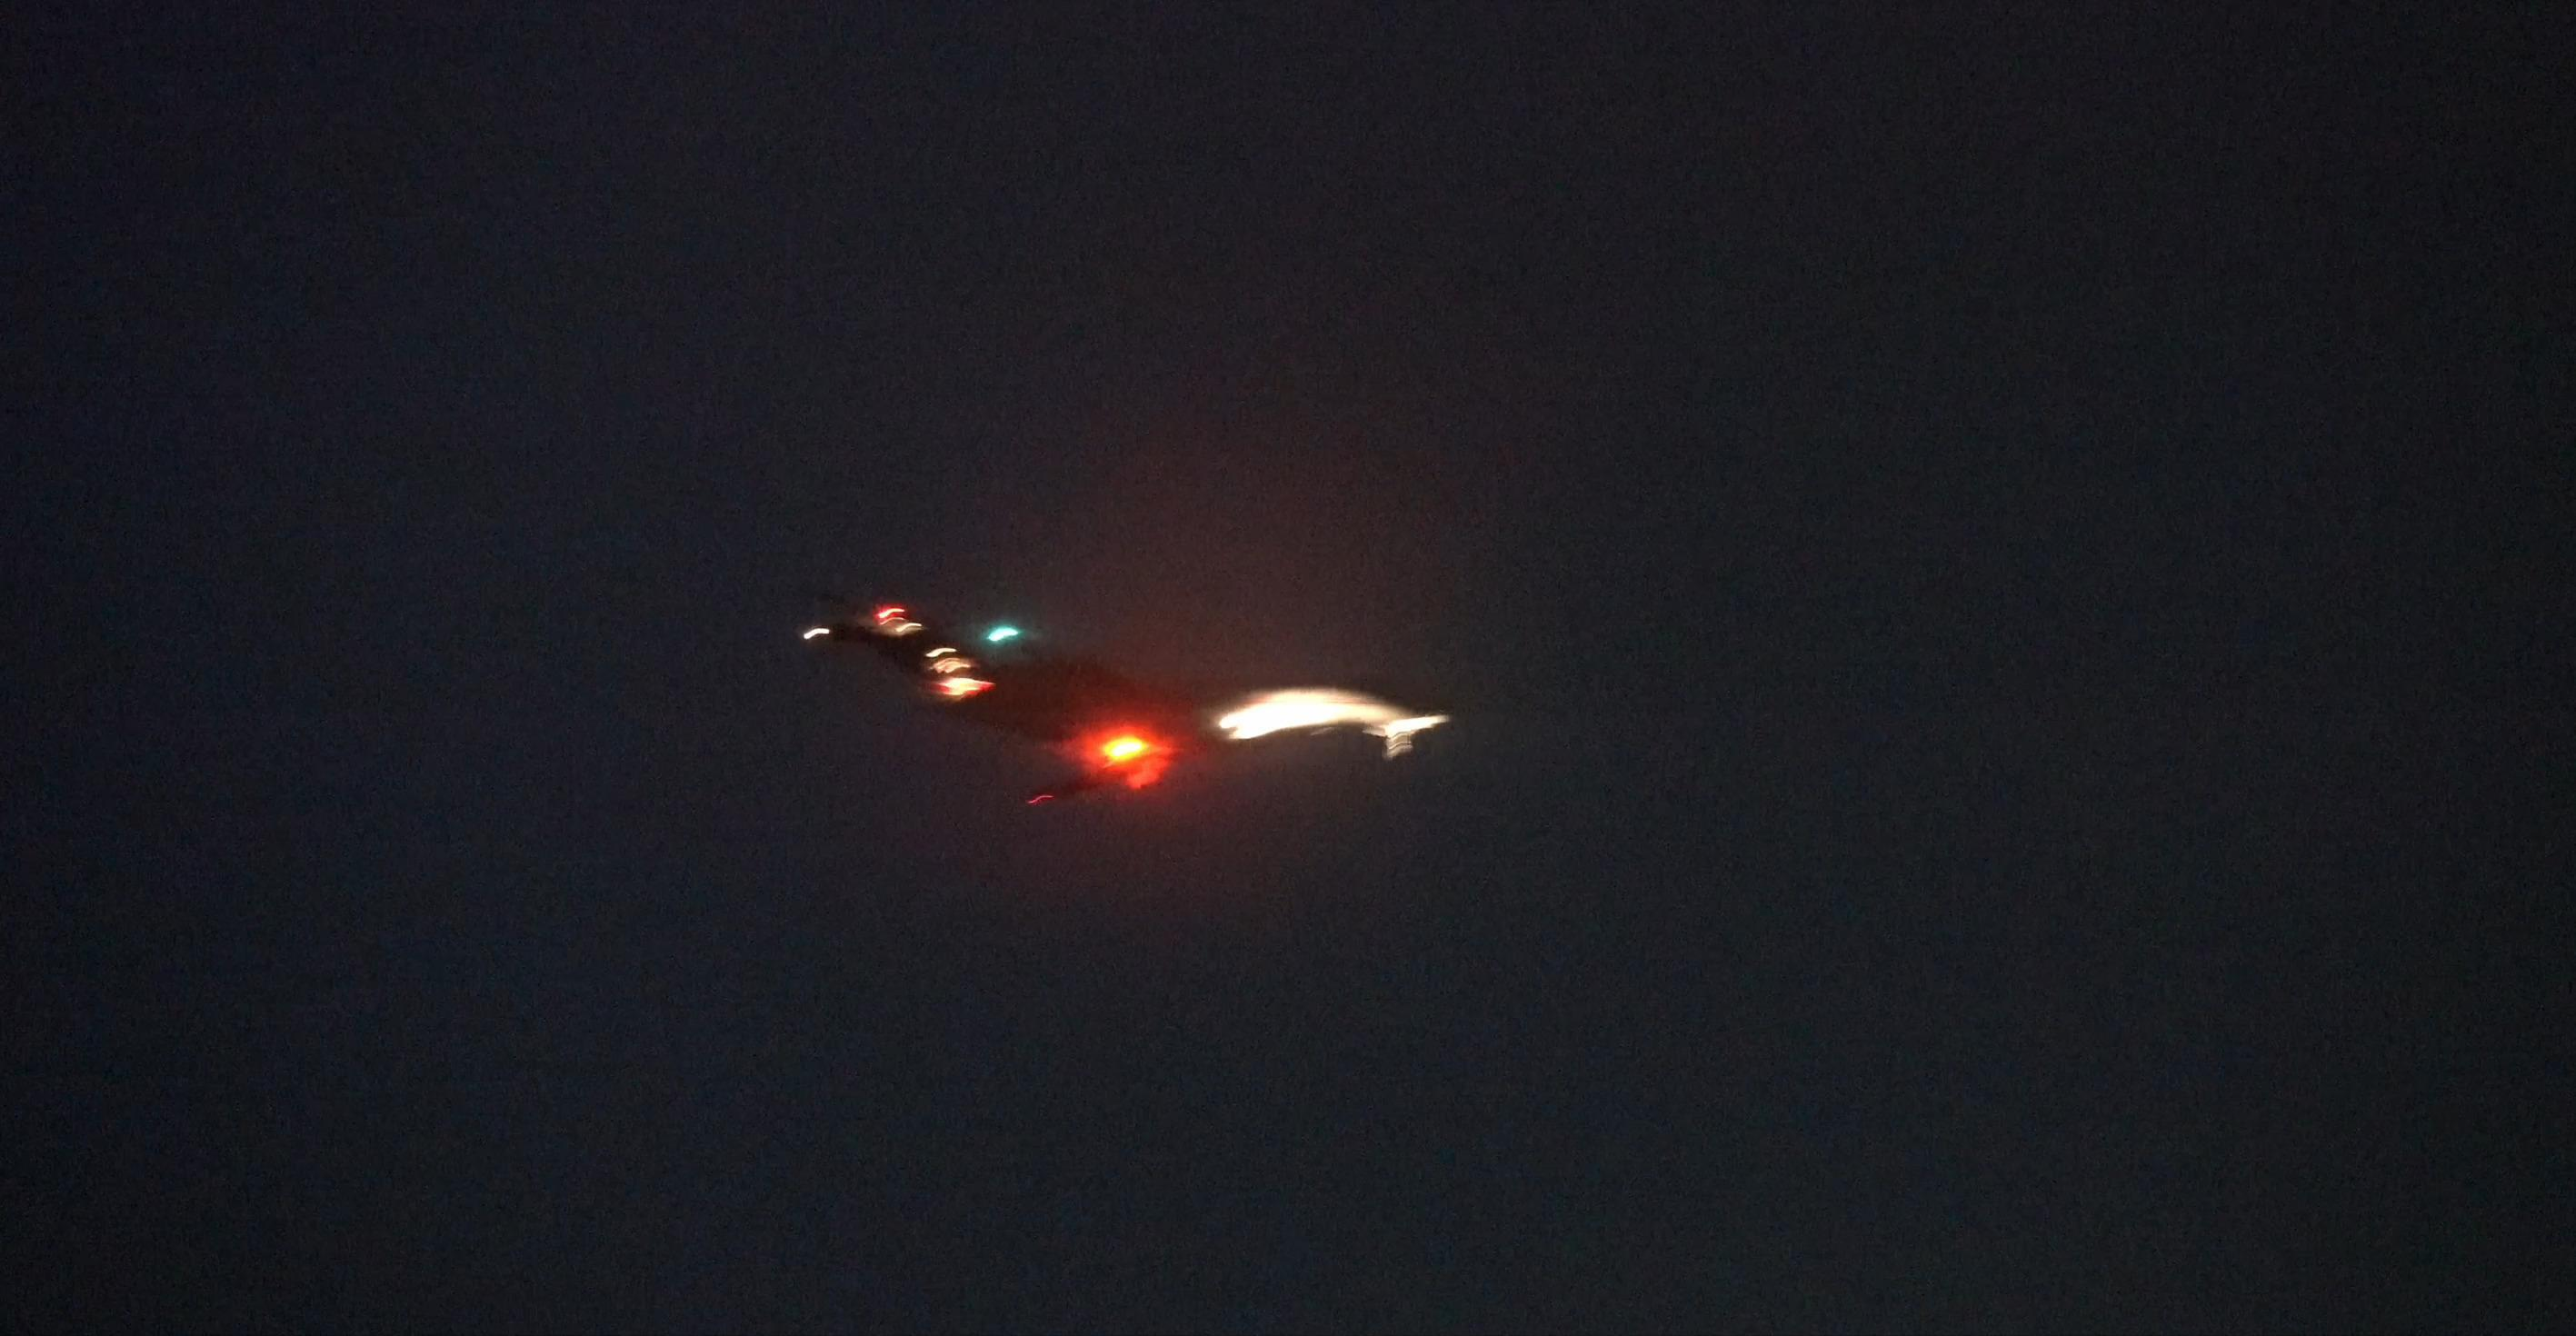Plane: (734, 619, 1463, 832)
